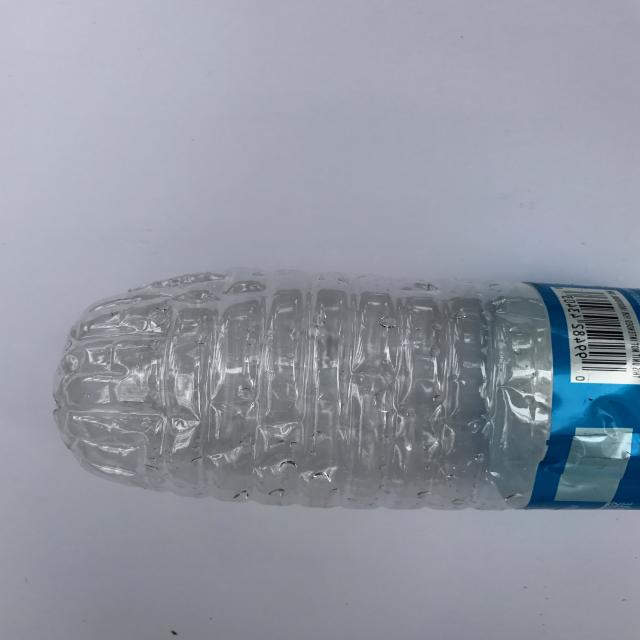plastic: (51, 267, 640, 511)
